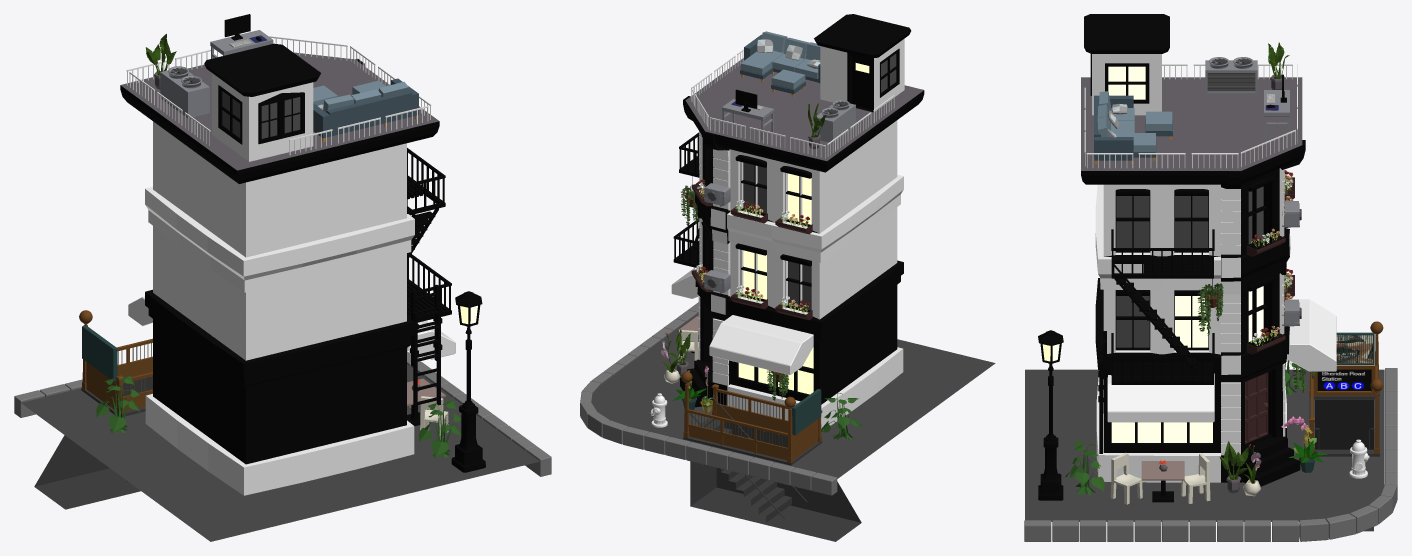
3 renders of one model, left to right at view 1: azimuth 30°, elevation 25°; view 2: azimuth 150°, elevation 25°; view 3: azimuth 270°, elevation 25°, orthographic. The views are drawn at different scales.
Parts seen in each view (by area): view 1: building, Plane, cielingBuilding, Plane.006, couch, Plane.001, deck001, Cube.004, cielinVernt00.001, Plane.013, deckrailing00.002, Cube.005 (+12 smaller); view 2: building, Plane, cielingBuilding, Plane.001, Plane.006, cover.001, Plane.013, couch, building.001, Plane.005, cover.006, group1646369301.006 (+11 smaller); view 3: building, Plane, Plane.001, cielingBuilding, deck001, building.001, cover.004, couch, Plane.006, cover.001, door, Cube.004 (+24 smaller).
Part boxes in pixels (bbox=[...]): building: bbox=[120, 52, 439, 495]; Plane: bbox=[21, 364, 539, 541]; cielingBuilding: bbox=[204, 43, 320, 161]; Plane.006: bbox=[34, 376, 152, 509]; couch: bbox=[313, 78, 418, 141]; Plane.001: bbox=[14, 351, 551, 476]; deck001: bbox=[407, 148, 451, 322]; Cube.004: bbox=[451, 326, 485, 472]; cielinVernt00.001: bbox=[160, 66, 209, 118]; Plane.013: bbox=[79, 310, 152, 414]; deckrailing00.002: bbox=[413, 306, 440, 410]; Cube.005: bbox=[82, 325, 117, 381]; building: bbox=[680, 58, 924, 428]; Plane: bbox=[591, 313, 995, 478]; cielingBuilding: bbox=[814, 14, 911, 112]; Plane.001: bbox=[580, 302, 837, 495]; Plane.006: bbox=[690, 421, 861, 541]; cover.001: bbox=[709, 315, 813, 374]; Plane.013: bbox=[681, 371, 822, 462]; couch: bbox=[740, 31, 820, 96]; building.001: bbox=[698, 131, 729, 385]; Plane.005: bbox=[706, 419, 791, 522]; cover.006: bbox=[691, 183, 812, 319]; group1646369301.006: bbox=[695, 179, 809, 313]; building: bbox=[1081, 77, 1305, 486]; Plane: bbox=[1025, 369, 1384, 521]; Plane.001: bbox=[1024, 368, 1397, 541]; cielingBuilding: bbox=[1084, 14, 1169, 115]; deck001: bbox=[1111, 229, 1214, 384]; building.001: bbox=[1221, 169, 1285, 455]; cover.004: bbox=[1107, 373, 1214, 422]; couch: bbox=[1094, 91, 1172, 164]; Plane.006: bbox=[1315, 399, 1373, 531]; cover.001: bbox=[1287, 299, 1336, 371]; door: bbox=[1245, 372, 1268, 443]; Cube.004: bbox=[1038, 364, 1063, 500].
Size of the model in its own units: 12.71 by 17.44 by 12.71.
57 materials, 7 textured.
